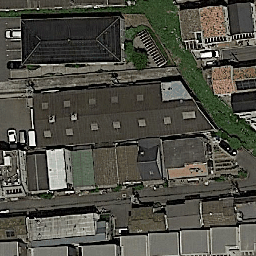car: (218, 139, 238, 155), (6, 128, 18, 149), (199, 50, 220, 59), (18, 129, 27, 148), (5, 29, 22, 39)
